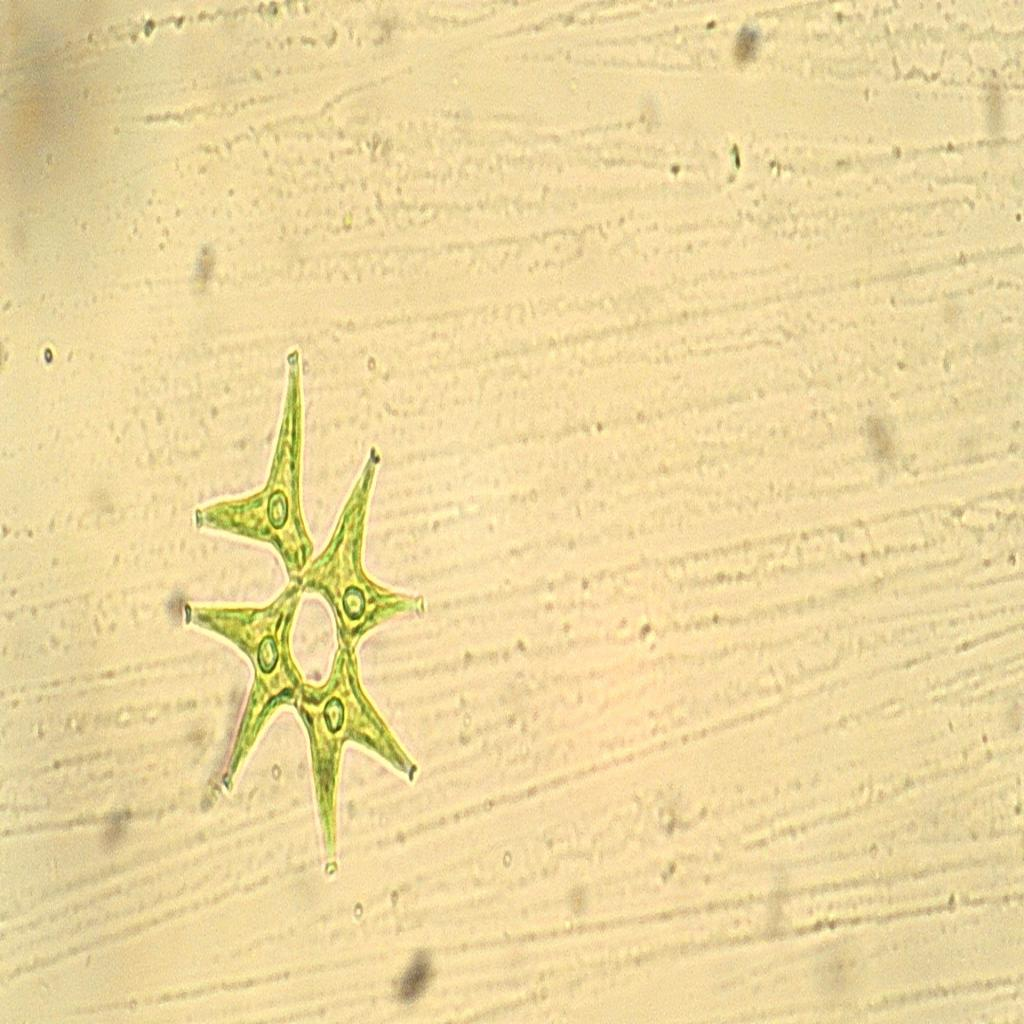Pediastrum_CT: (176, 339, 432, 893)
